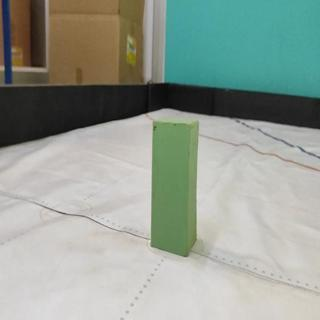greenbox: (151, 119, 199, 257)
